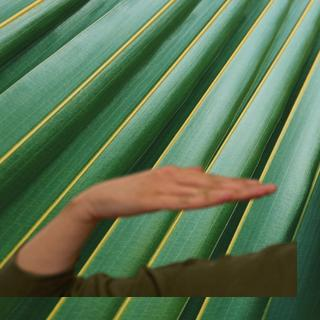WAIT: (75, 157, 283, 220)
